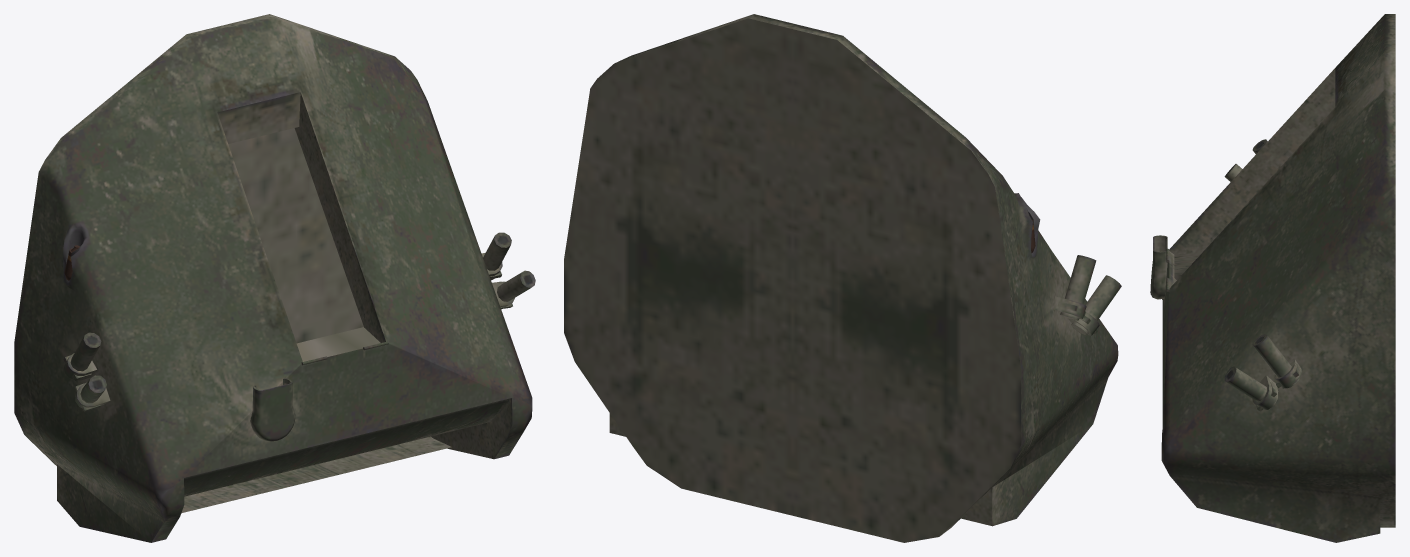
The model's file is Turret_01.glb.
3 renders of one model, left to right at view 1: azimuth 30°, elevation 25°; view 2: azimuth 150°, elevation 25°; view 3: azimuth 270°, elevation 25°, orthographic. The views are drawn at different scales.
Parts seen in each view (by area): view 1: set_0_group_0; view 2: set_0_group_0; view 3: set_0_group_0.
Boxes of the visible parts, x1,y1,x2,y2 form: set_0_group_0: [14, 14, 535, 542]; set_0_group_0: [564, 14, 1121, 542]; set_0_group_0: [1150, 14, 1395, 542].
Size of the model in its own units: 2.41 by 2.35 by 1.18.
1 material, 1 textured.
